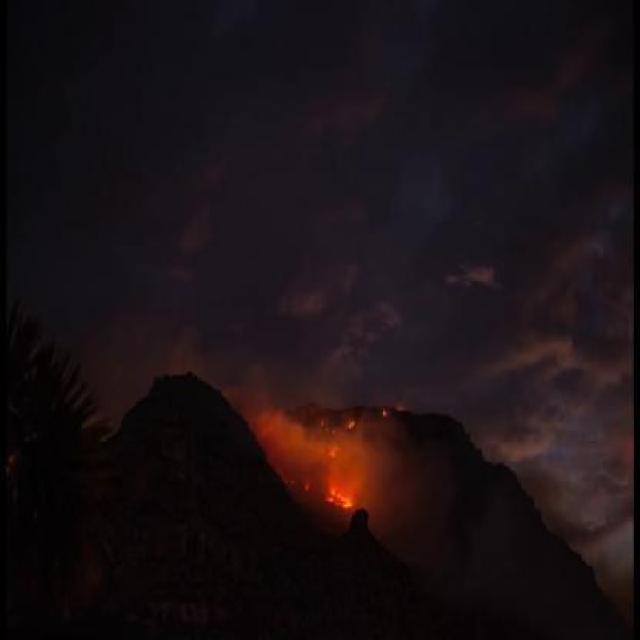Fire: (325, 484, 353, 508), (326, 443, 337, 457), (348, 420, 356, 429), (383, 408, 386, 416)
